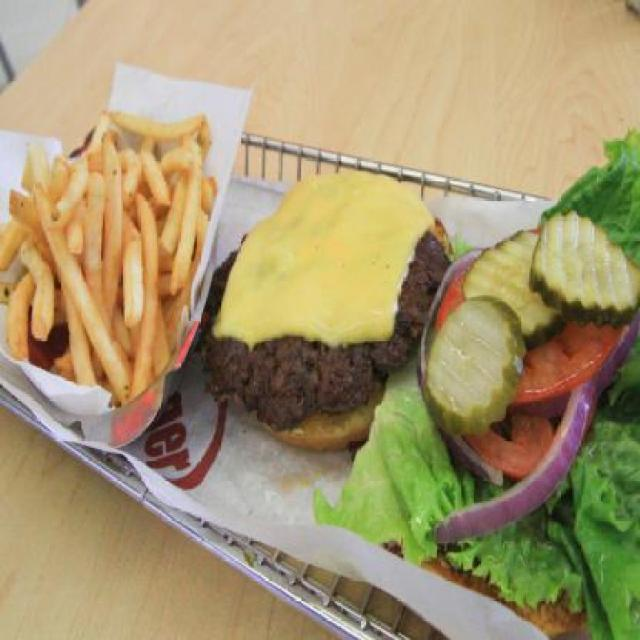Hamburger: (191, 129, 640, 637), (184, 170, 428, 452)
